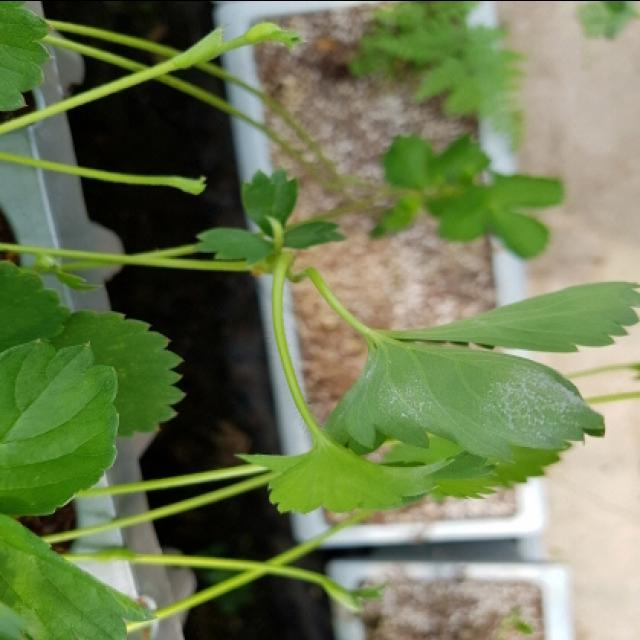Powdery Mildew Leaf: (320, 327, 606, 464)
